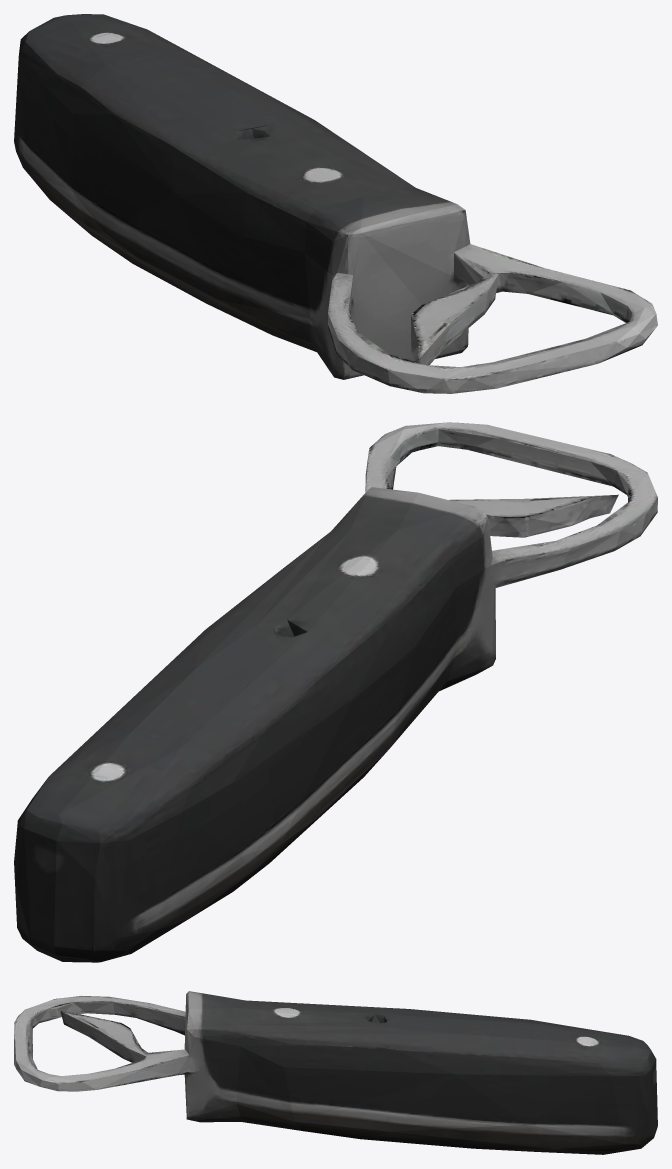
File: bottle_opener.glb
The picture shows the model from 3 angles, top to bottom: view 1: azimuth 30°, elevation 25°; view 2: azimuth 150°, elevation 25°; view 3: azimuth 270°, elevation 25°; orthographic projection. The views are drawn at different scales.
Visible parts, largest first — view 1: bottle_opener; view 2: bottle_opener; view 3: bottle_opener.
Boxes of the visible parts, left/top/right/bottom form: bottle_opener: left=14, top=14, right=657, bottom=393; bottle_opener: left=14, top=422, right=657, bottom=962; bottle_opener: left=14, top=991, right=657, bottom=1154.
Bounding box in the file's own units: 0.1871 × 0.1366 × 0.5842.
1 material, 1 textured.
